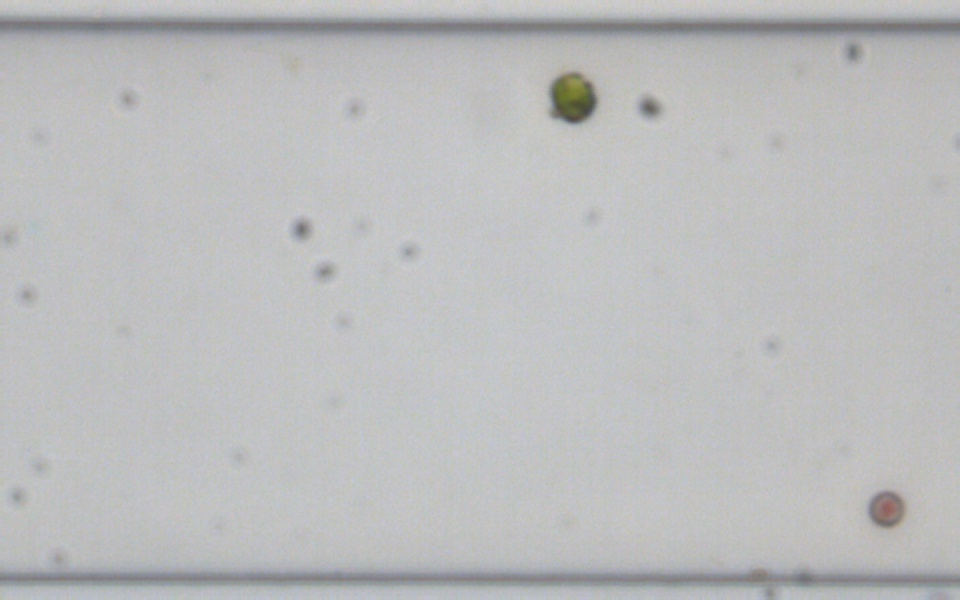Platymonas: (548, 70, 597, 125)
Porphyridium: (864, 487, 905, 528)
